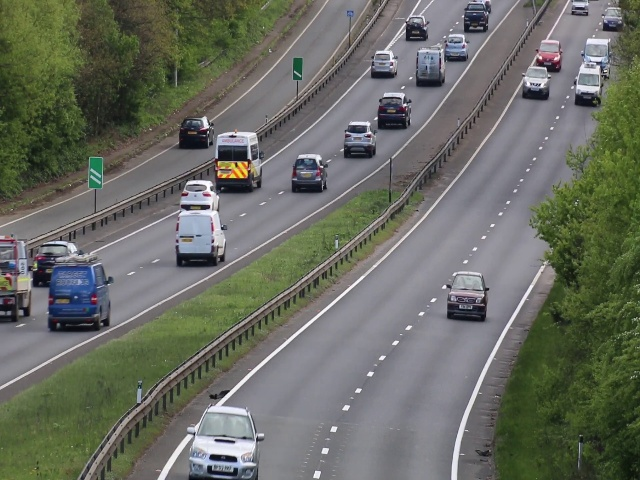car: (187, 404, 259, 480), (47, 261, 113, 331), (175, 209, 230, 264), (216, 133, 267, 189), (1, 241, 29, 324), (445, 271, 487, 323), (292, 152, 328, 193), (343, 119, 378, 157), (415, 47, 447, 86), (572, 65, 602, 106), (378, 91, 410, 129), (177, 115, 214, 146), (520, 66, 551, 100), (181, 181, 216, 204), (370, 51, 398, 78), (404, 13, 430, 40), (463, 3, 488, 30), (536, 39, 562, 63), (446, 33, 468, 61), (33, 243, 46, 288)
